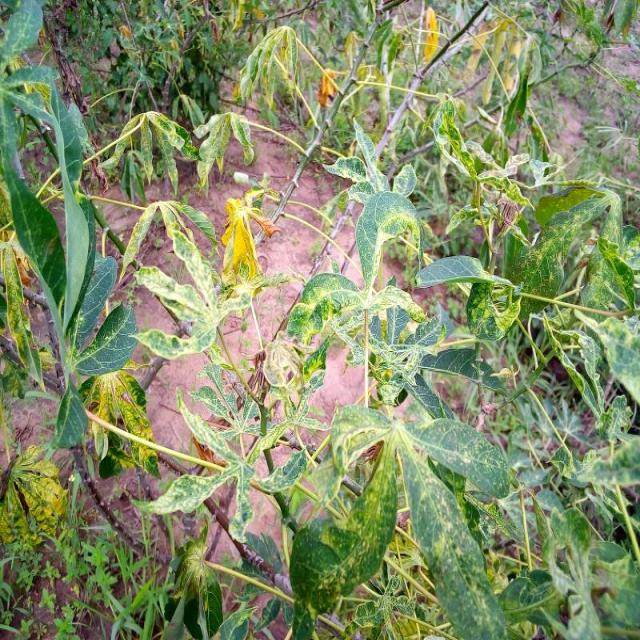cassava leaf: (396, 429, 509, 638), (289, 433, 399, 635)
